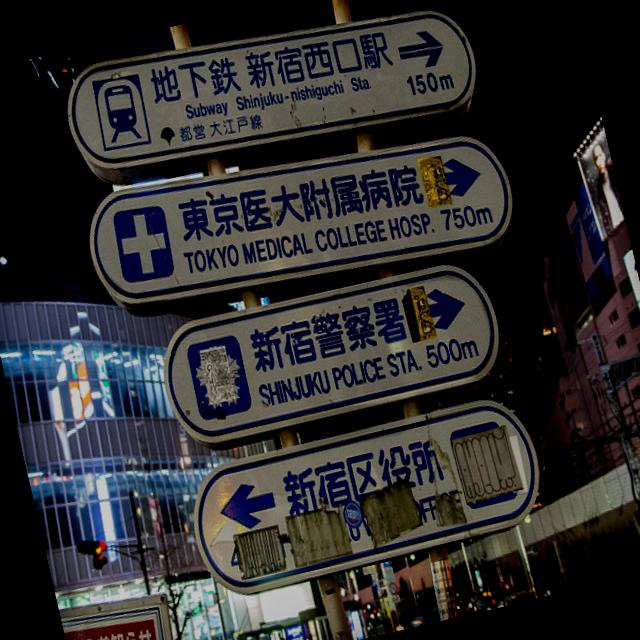Vehicle: (502, 590, 526, 606)
